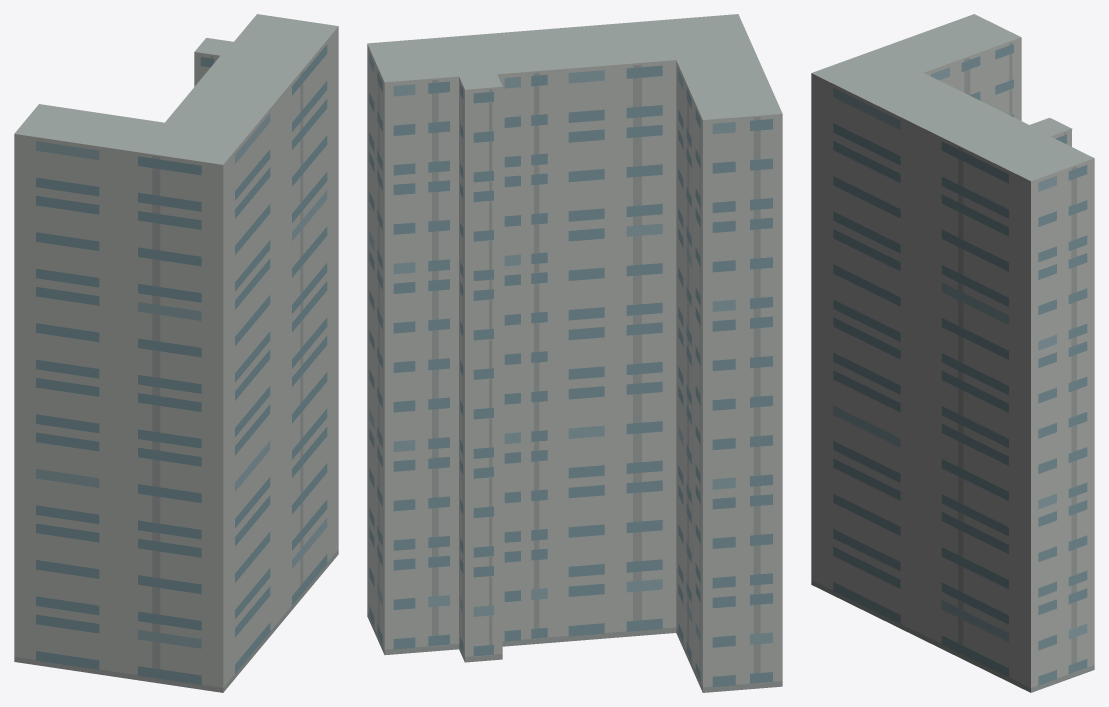
Rendered from residential-5a47baf3-491c-49ed-97a0-c32a502c4f02.glb.
The picture shows the model from 3 angles, left to right: view 1: azimuth 30°, elevation 25°; view 2: azimuth 150°, elevation 25°; view 3: azimuth 270°, elevation 25°; orthographic projection. The views are drawn at different scales.
Parts seen in each view (by area): view 1: residential-5a47baf3-491c-49ed-97a0-c32a502c4f02.tmp; view 2: residential-5a47baf3-491c-49ed-97a0-c32a502c4f02.tmp; view 3: residential-5a47baf3-491c-49ed-97a0-c32a502c4f02.tmp.
Boxes of the visible parts, x1,y1,x2,y2 form: residential-5a47baf3-491c-49ed-97a0-c32a502c4f02.tmp: [14, 14, 338, 692]; residential-5a47baf3-491c-49ed-97a0-c32a502c4f02.tmp: [367, 14, 782, 692]; residential-5a47baf3-491c-49ed-97a0-c32a502c4f02.tmp: [811, 14, 1094, 692].
Size of the model in its own units: 59.6 by 85 by 42.66.
